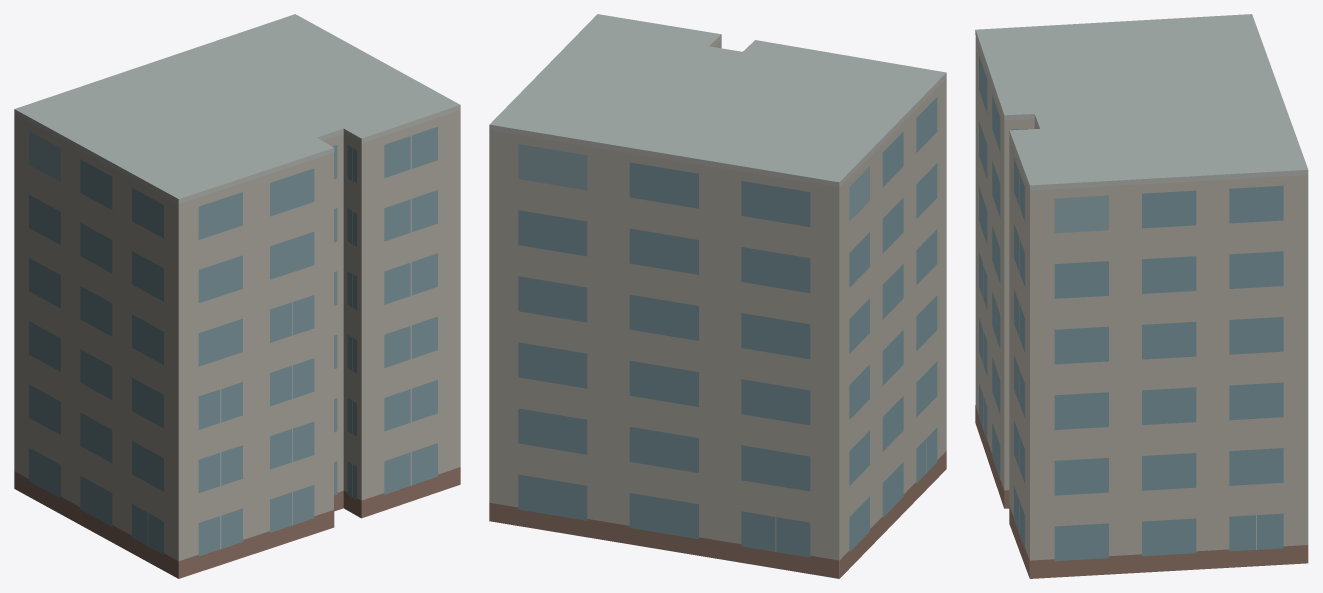
Rendered from survey-upis-32707826.glb.
3 renders of one model, left to right at view 1: azimuth 30°, elevation 25°; view 2: azimuth 150°, elevation 25°; view 3: azimuth 270°, elevation 25°, orthographic. The views are drawn at different scales.
Parts seen in each view (by area): view 1: survey-upis-32707826.tmp; view 2: survey-upis-32707826.tmp; view 3: survey-upis-32707826.tmp.
Boxes of the visible parts, box(x1,y1,x2,y2) form: survey-upis-32707826.tmp: box(14, 14, 460, 578); survey-upis-32707826.tmp: box(489, 14, 946, 578); survey-upis-32707826.tmp: box(975, 14, 1308, 578).
Bounding box in the file's own units: 17.1 × 18.3 × 14.04.
